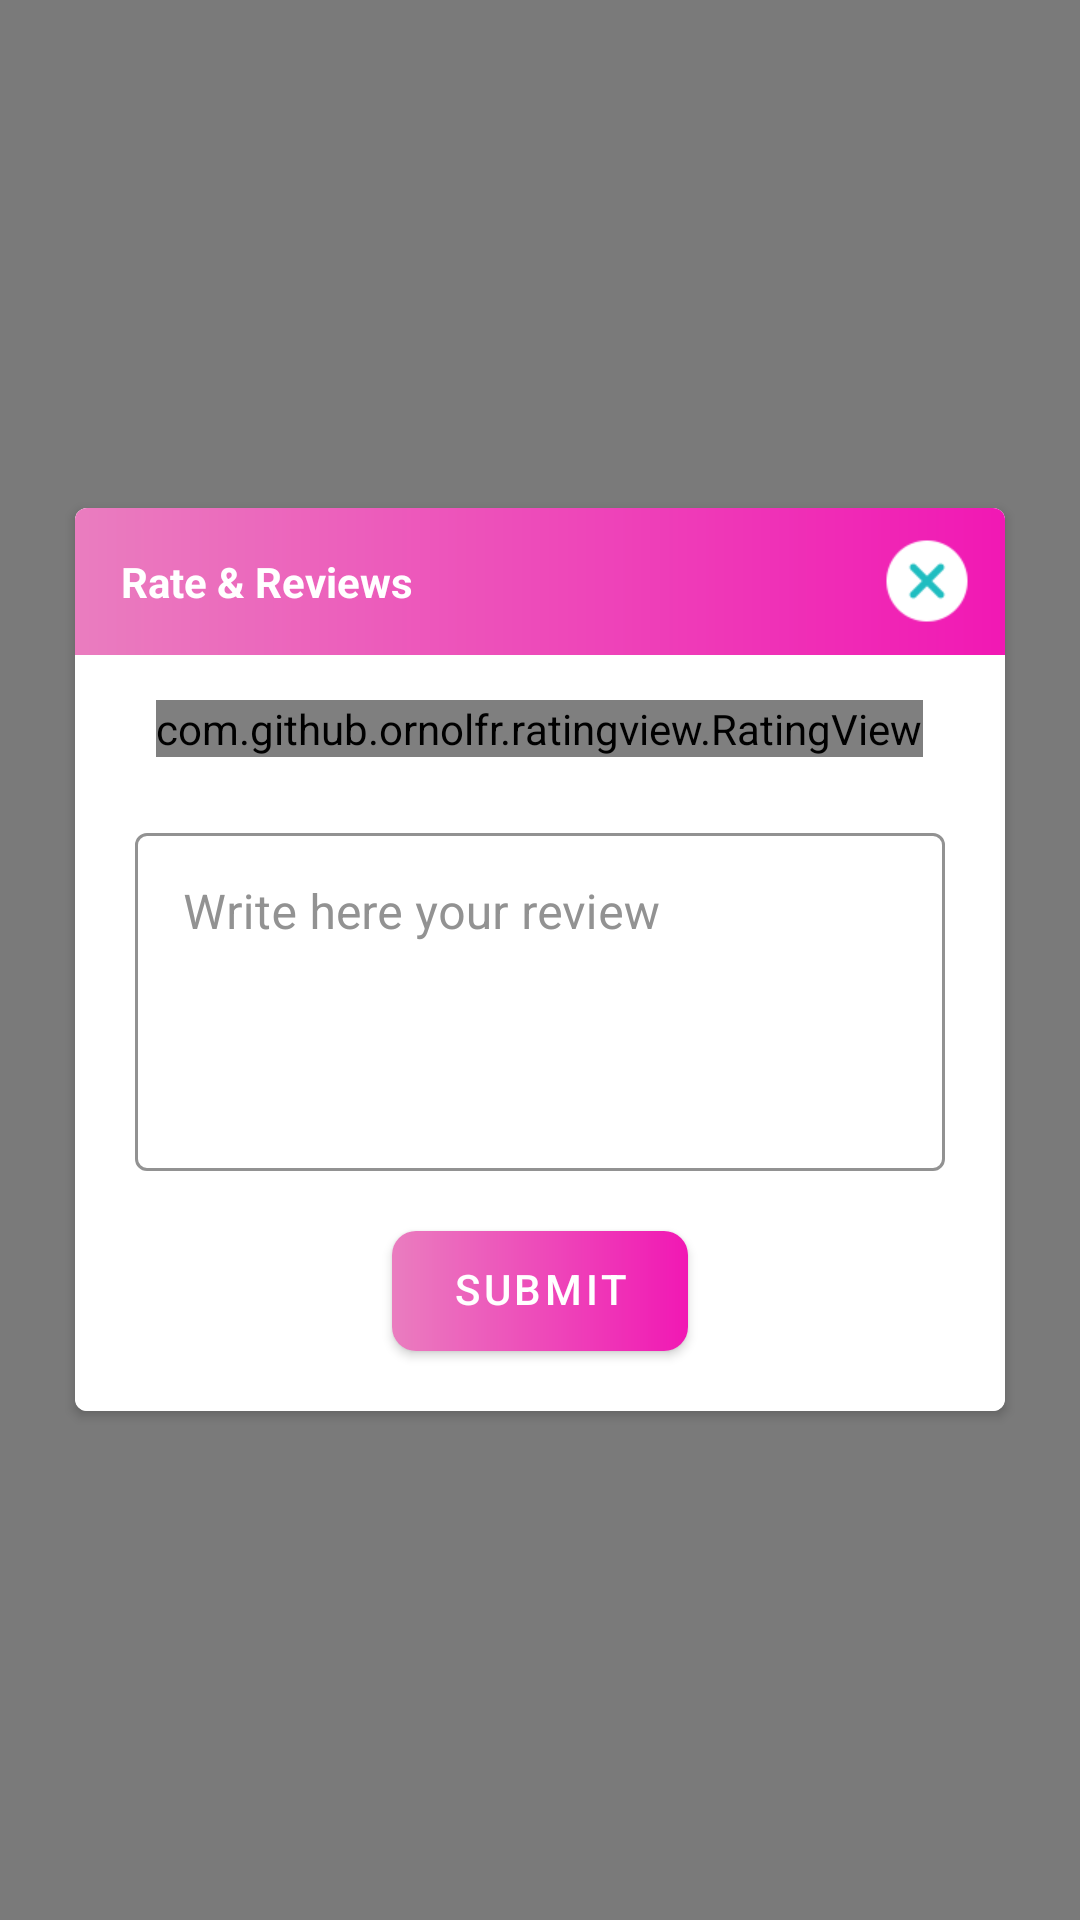

Screen size 1080*1920. Icon name, then its box in pixels as region(x1, y1, x2, y2):
close: region(886, 540, 968, 622)
